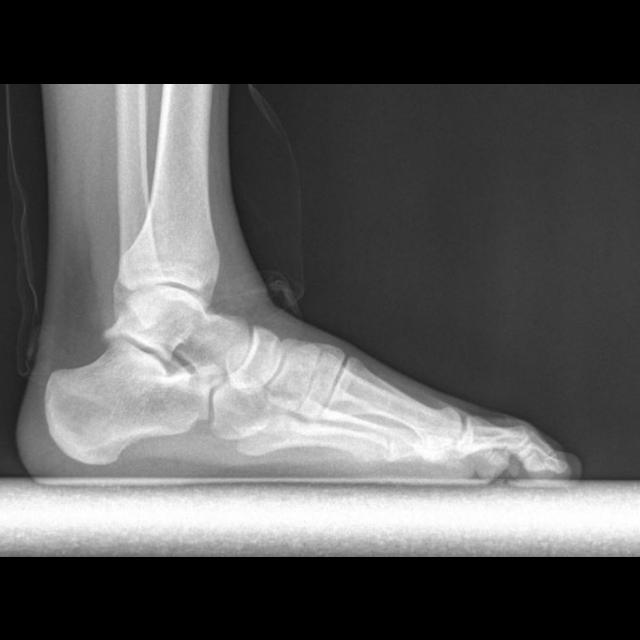a: (45, 338, 221, 464)
b: (228, 327, 282, 391)
c: (322, 356, 461, 451)
